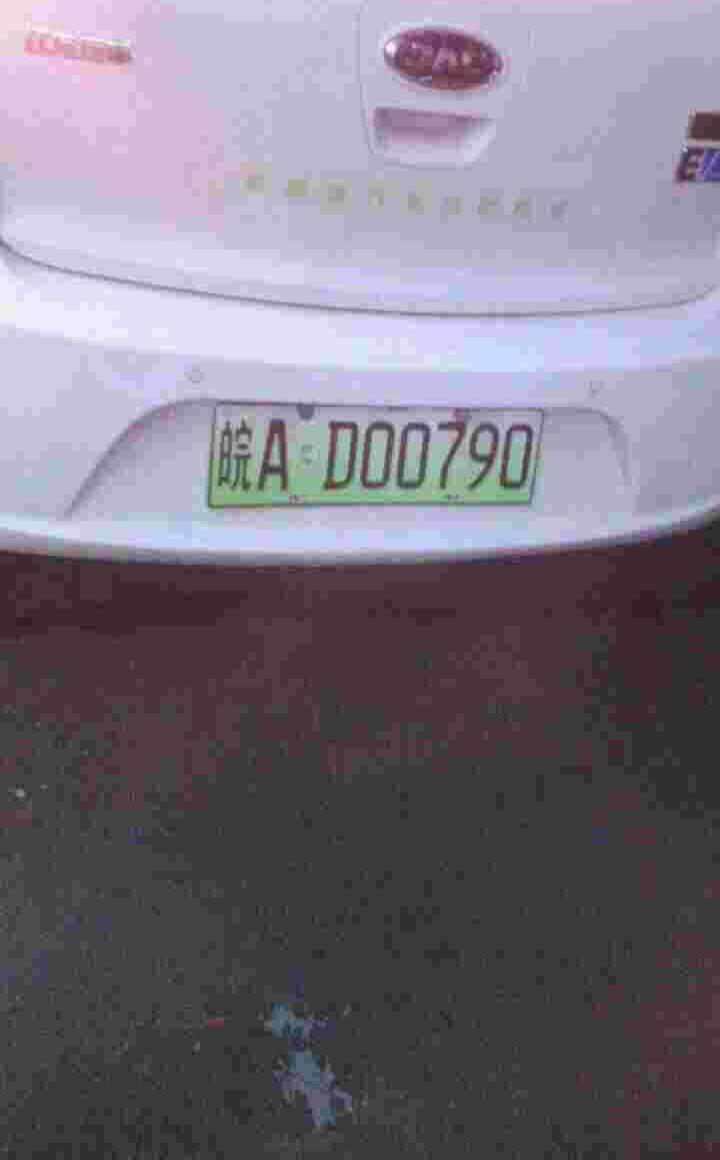car_id: (207, 407, 540, 501)
